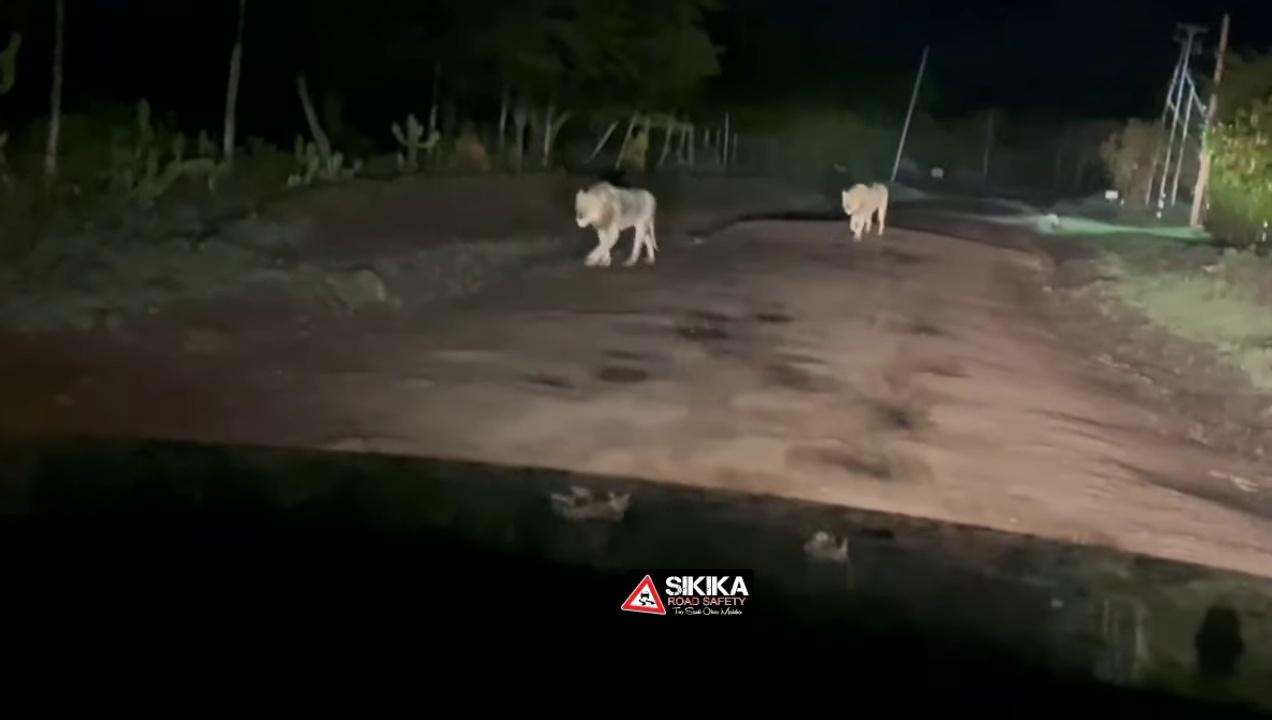lions: (556, 177, 667, 277), (832, 173, 901, 257)
